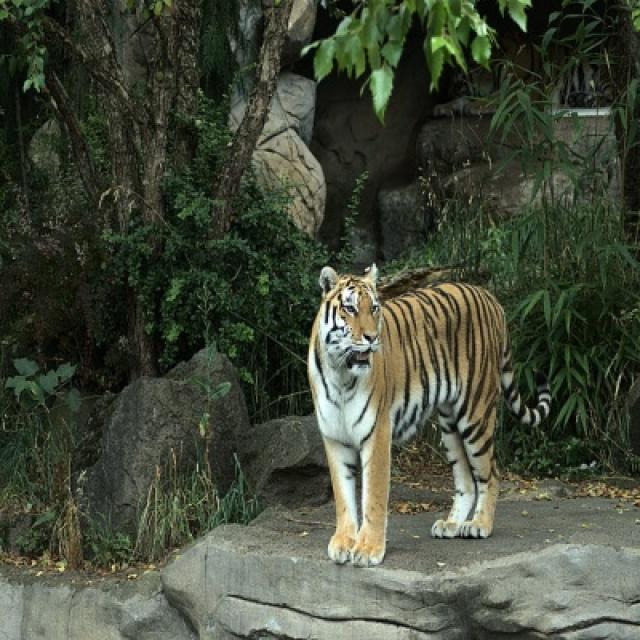Tiger: (305, 268, 526, 559)
